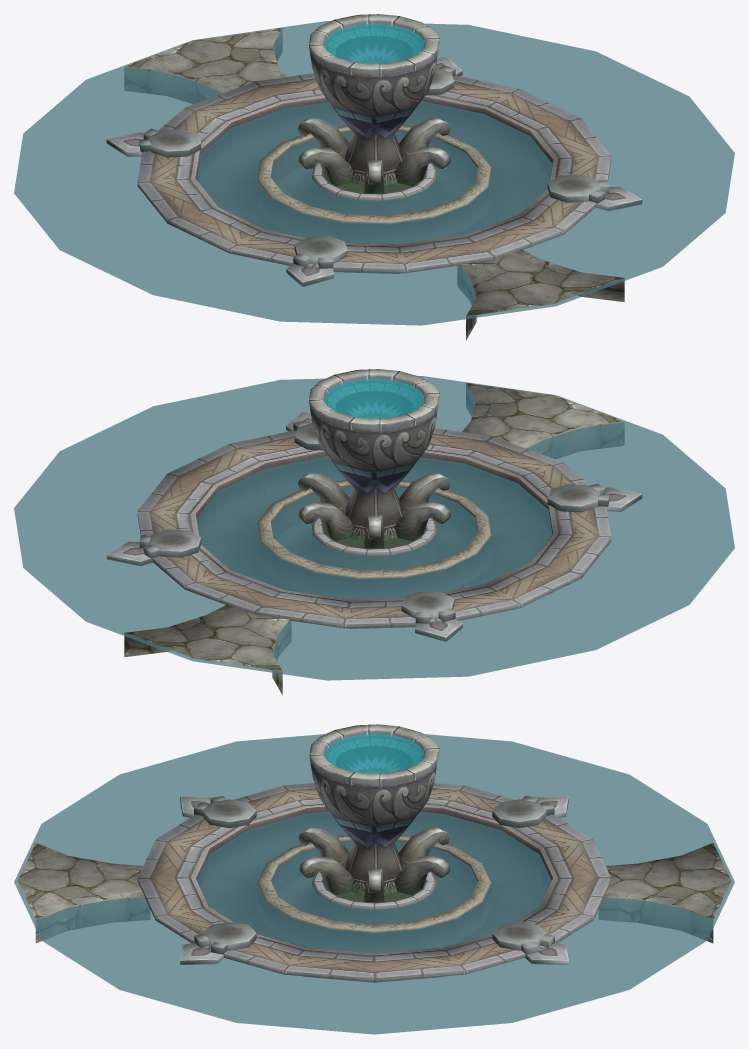
File: shuichi.FBX
3 views of the same model, one above another, from view 1: azimuth 30°, elevation 25°; view 2: azimuth 150°, elevation 25°; view 3: azimuth 270°, elevation 25° (orthographic).
Visible parts, largest first — view 1: shuichi, boli, shui_01, shui_02; view 2: shuichi, boli, shui_01, shui_02; view 3: shuichi, boli, shui_01, shui_02.
Boxes of the visible parts, x1=… form: shuichi: x1=106, y1=14, x2=642, y2=340; boli: x1=14, y1=21, x2=734, y2=325; shui_01: x1=196, y1=101, x2=552, y2=244; shui_02: x1=324, y1=23, x2=424, y2=63; shuichi: x1=106, y1=369, x2=642, y2=694; boli: x1=14, y1=376, x2=734, y2=680; shui_01: x1=196, y1=456, x2=552, y2=599; shui_02: x1=324, y1=378, x2=424, y2=418; shuichi: x1=18, y1=724, x2=731, y2=982; boli: x1=14, y1=734, x2=734, y2=1034; shui_01: x1=197, y1=811, x2=551, y2=953; shui_02: x1=325, y1=734, x2=423, y2=773.
Bounding box in the file's own units: 963 × 229 × 963.
